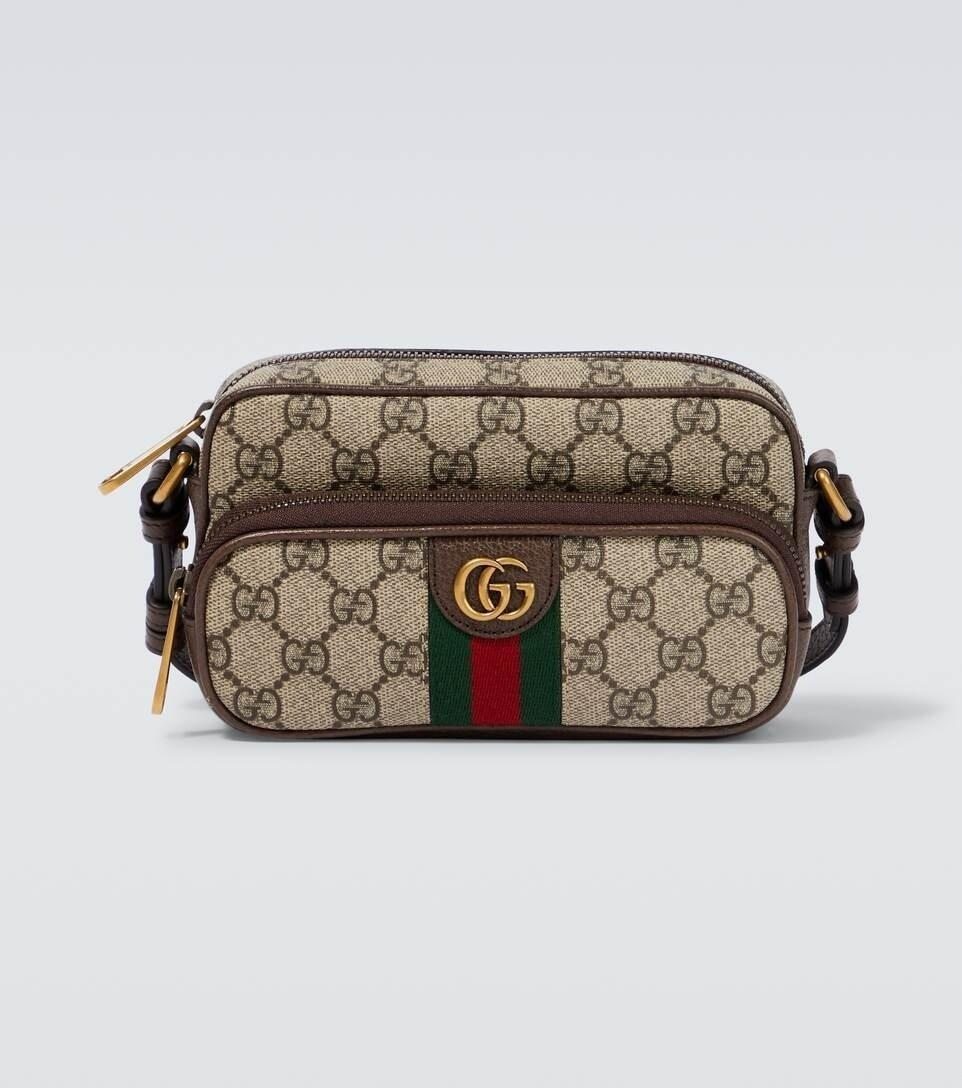GUCCI: (455, 556, 535, 621)
